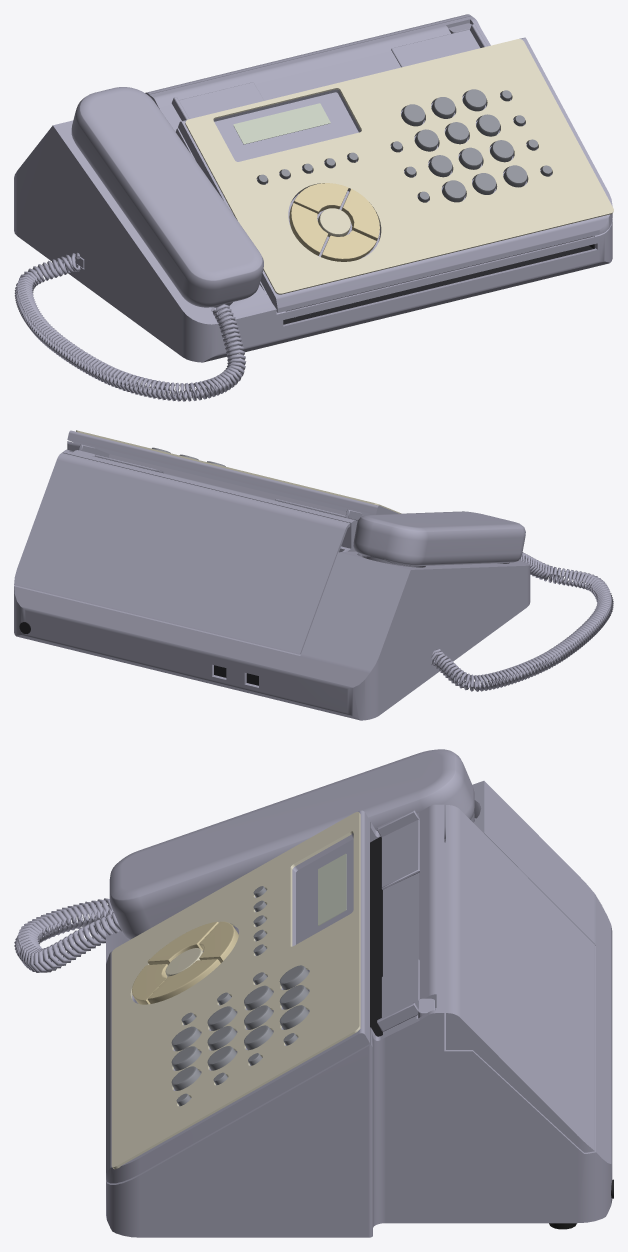
Rendered from fax_fo70.glb.
The picture shows the model from 3 angles, top to bottom: view 1: azimuth 30°, elevation 25°; view 2: azimuth 150°, elevation 25°; view 3: azimuth 270°, elevation 25°; orthographic projection. The views are drawn at different scales.
Parts seen in each view (by area): view 1: fax_panel_mesh, fax_body_mesh, fax_handset_mesh, fax_cord_mesh, fax_lcd_mesh, fax_guide_r_mesh, fax_guide_l_mesh, fax_print_slot_mesh, fax_key_start_mesh, fax_key_copy_mesh, fax_key_stop_mesh, fax_roll_cover_mesh; view 2: fax_body_mesh, fax_roll_cover_mesh, fax_handset_mesh, fax_cord_mesh, fax_panel_mesh, fax_jacks_mesh; view 3: fax_body_mesh, fax_panel_mesh, fax_roll_cover_mesh, fax_handset_mesh, fax_cord_mesh, fax_guide_l_mesh, fax_doc_slot_mesh, fax_guide_r_mesh, fax_lcd_mesh, fax_key_copy_mesh, fax_key_start_mesh, fax_key_stop_mesh.
Part boxes in pixels (box(x1,y1,x2,y2)): fax_panel_mesh: box(178, 37, 613, 312); fax_body_mesh: box(14, 16, 612, 362); fax_handset_mesh: box(71, 87, 263, 307); fax_cord_mesh: box(14, 252, 246, 401); fax_lcd_mesh: box(233, 103, 330, 144); fax_guide_r_mesh: box(391, 24, 487, 67); fax_guide_l_mesh: box(171, 82, 264, 120); fax_print_slot_mesh: box(283, 244, 594, 324); fax_key_start_mesh: box(289, 203, 328, 255); fax_key_copy_mesh: box(341, 189, 379, 240); fax_key_stop_mesh: box(293, 183, 348, 214); fax_roll_cover_mesh: box(145, 14, 470, 95); fax_body_mesh: box(14, 441, 530, 720); fax_roll_cover_mesh: box(14, 453, 350, 654); fax_handset_mesh: box(353, 511, 525, 567); fax_cord_mesh: box(431, 552, 613, 691); fax_panel_mesh: box(67, 430, 401, 515); fax_jacks_mesh: box(19, 622, 438, 685); fax_body_mesh: box(106, 781, 612, 1237); fax_panel_mesh: box(106, 810, 369, 1183); fax_roll_cover_mesh: box(446, 805, 594, 1152); fax_handset_mesh: box(109, 749, 474, 939); fax_cord_mesh: box(14, 898, 121, 972); fax_guide_l_mesh: box(377, 810, 419, 889); fax_doc_slot_mesh: box(370, 836, 382, 1036); fax_guide_r_mesh: box(377, 959, 419, 1031); fax_lcd_mesh: box(318, 853, 346, 925); fax_key_copy_mesh: box(147, 959, 220, 1003); fax_key_start_mesh: box(147, 921, 218, 964); fax_key_stop_mesh: box(199, 921, 238, 962).
Size of the model in its own units: 0.3696 by 0.1201 by 0.2796.
